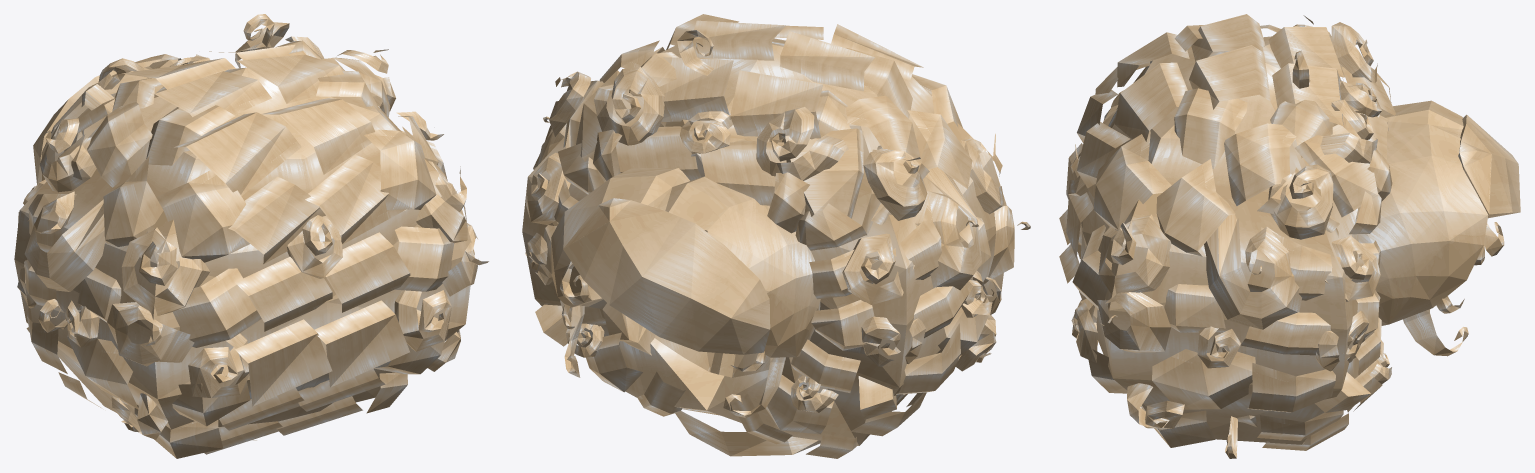
3 views of the same model, side by side, from view 1: azimuth 30°, elevation 25°; view 2: azimuth 150°, elevation 25°; view 3: azimuth 270°, elevation 25° (orthographic). The views are drawn at different scales.
Parts seen in each view (by area): view 1: geometry_0; view 2: geometry_0; view 3: geometry_0.
Boxes of the visible parts, x1=… form: geometry_0: x1=14, y1=14, x2=488, y2=458; geometry_0: x1=522, y1=14, x2=1030, y2=458; geometry_0: x1=1059, y1=14, x2=1520, y2=458.
Bounding box in the file's own units: 2.79 × 2.51 × 2.65.
Materials: 1 (1 with a texture image).
